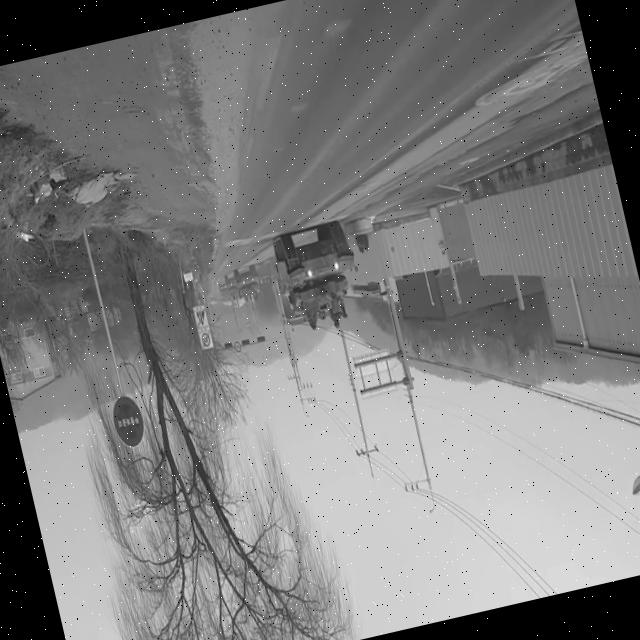korea tank: (260, 215, 372, 348)
